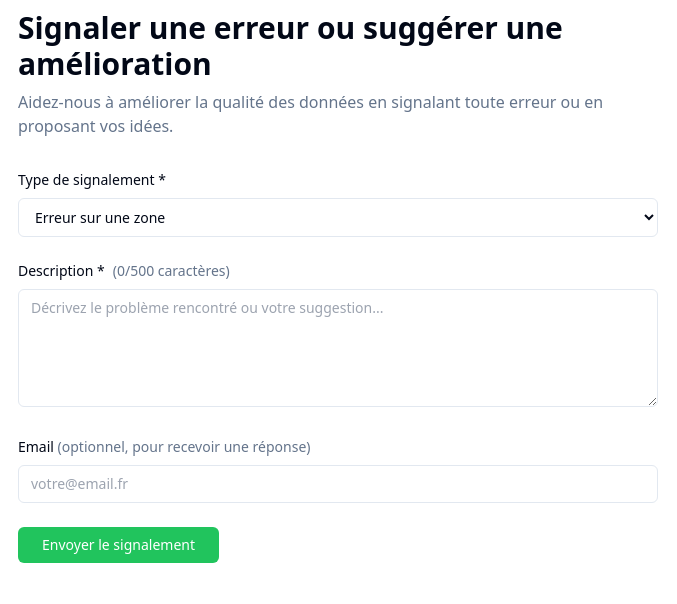
FeedbackPage › shows validation error for invalid email
The image size is (677, 604).
In the text box labelled "Description *(0/500 caractères)": (338, 348) [18,289,658,407], type "Description suffisamment longue"
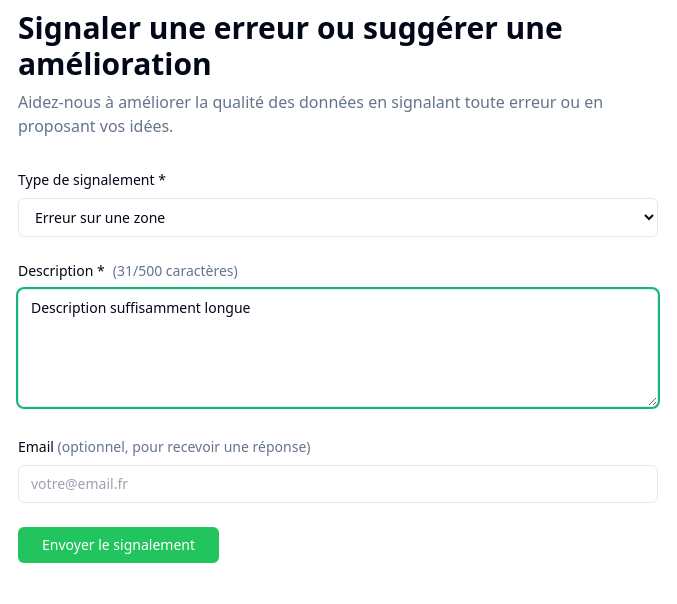
In the field labelled "Email (optionnel, pour recevoir une réponse)": (338, 484) [18,465,658,503], type "not-an-email"
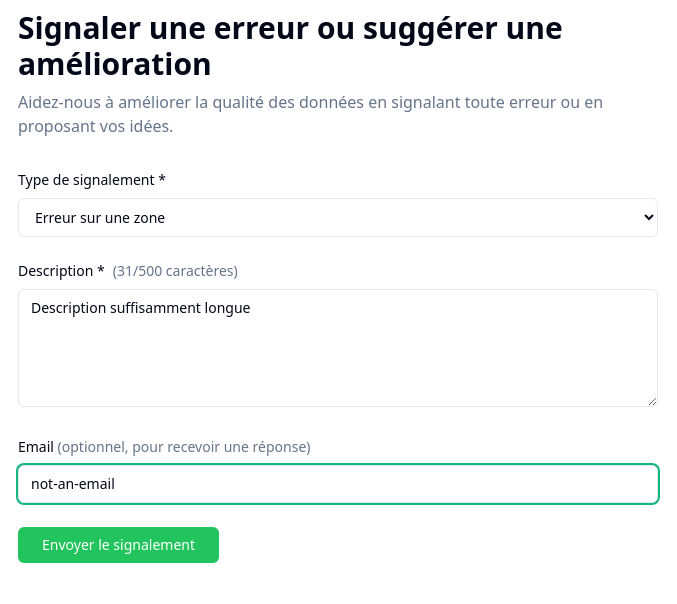
Click the button "Envoyer le signalement": (118, 545) [18,527,219,563]
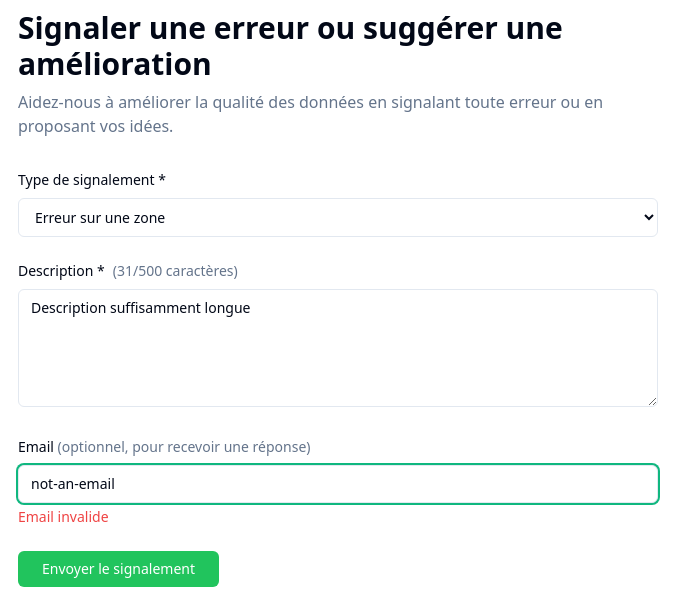
Check: the text "Email invalide" is shown, box [18,507,109,526]
